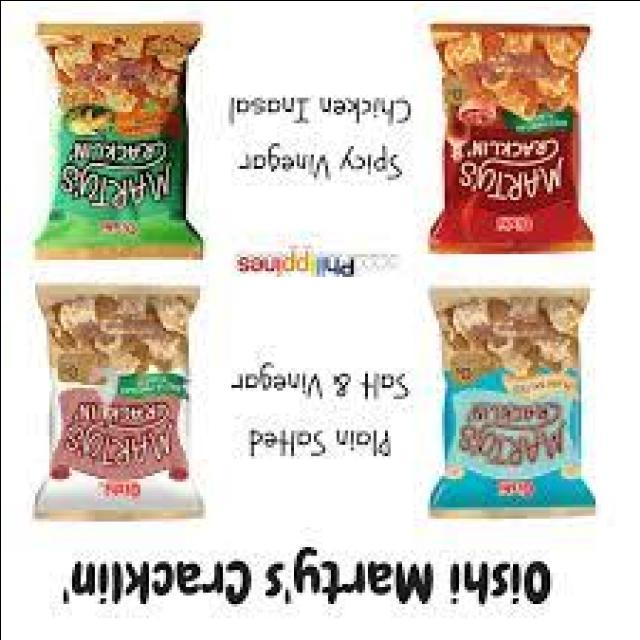junkfood wrapper: (36, 24, 201, 258), (431, 291, 594, 513), (40, 286, 198, 515), (431, 24, 588, 249)
